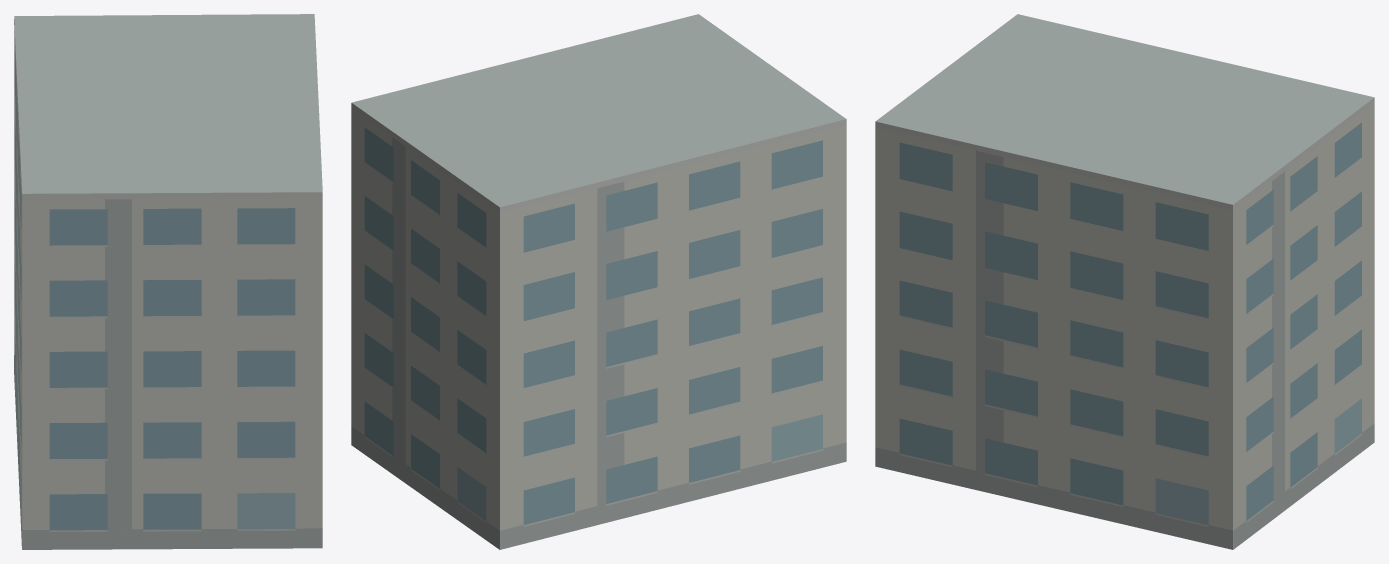
The model's file is survey-upis-32876848.glb.
The picture shows the model from 3 angles, left to right: view 1: azimuth 30°, elevation 25°; view 2: azimuth 150°, elevation 25°; view 3: azimuth 270°, elevation 25°; orthographic projection. The views are drawn at different scales.
Visible parts, largest first — view 1: survey-upis-32876848.tmp; view 2: survey-upis-32876848.tmp; view 3: survey-upis-32876848.tmp.
Part boxes in pixels (<box>): survey-upis-32876848.tmp: <box>14,14,322,549</box>; survey-upis-32876848.tmp: <box>351,14,846,549</box>; survey-upis-32876848.tmp: <box>875,14,1374,549</box>.
Size of the model in its own units: 17.09 by 14.4 by 18.89.
